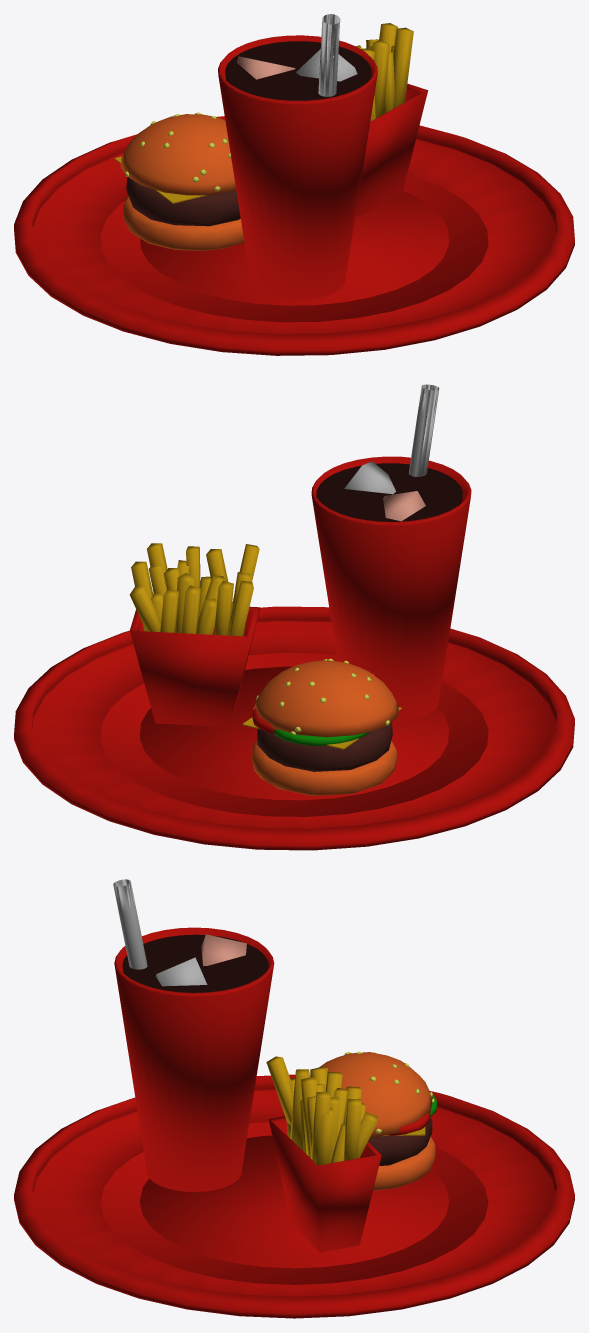
Rendered from burger.obj.
The picture shows the model from 3 angles, top to bottom: view 1: azimuth 30°, elevation 25°; view 2: azimuth 150°, elevation 25°; view 3: azimuth 270°, elevation 25°; orthographic projection.
Visible parts, largest first — view 1: Cylinder.005, Cylinder.004, Sphere_Sphere.001, Cube_Cube.001, Cylinder.007, Cylinder.001, Cube.019_Cube.020, Cylinder, Cylinder.006, Cube.001_Cube.023, Cube.002_Cube.024; view 2: Cylinder.005, Cylinder.004, Cube_Cube.001, Cube.019_Cube.020, Sphere_Sphere.001, Cylinder.007, Cylinder, Cylinder.001, Cylinder.006, Cube.001_Cube.023, Cube.002_Cube.024, Cylinder.003; view 3: Cylinder.005, Cylinder.004, Cube_Cube.001, Cube.019_Cube.020, Sphere_Sphere.001, Cylinder.007, Cylinder.006, Cylinder, Cylinder.001, Cube.002_Cube.024, Cube.001_Cube.023.
Part boxes in pixels (box(x1,y1,x2,y2)): Cylinder.005: box(14, 116, 574, 355); Cylinder.004: box(218, 35, 377, 300); Sphere_Sphere.001: box(120, 114, 236, 195); Cube_Cube.001: box(355, 83, 428, 217); Cylinder.007: box(225, 41, 371, 100); Cylinder.001: box(126, 177, 240, 226); Cube.019_Cube.020: box(356, 23, 413, 121); Cylinder: box(123, 195, 244, 250); Cylinder.006: box(318, 14, 340, 96); Cube.001_Cube.023: box(296, 49, 357, 81); Cube.002_Cube.024: box(237, 56, 295, 79); Cylinder.005: box(14, 606, 574, 850); Cylinder.004: box(311, 456, 471, 721); Cube_Cube.001: box(130, 606, 260, 727); Cube.019_Cube.020: box(129, 543, 259, 636); Sphere_Sphere.001: box(253, 660, 398, 737); Cylinder.007: box(316, 463, 462, 521); Cylinder: box(252, 740, 397, 795); Cylinder.001: box(257, 722, 392, 771); Cylinder.006: box(409, 384, 439, 476); Cube.001_Cube.023: box(344, 461, 395, 494); Cube.002_Cube.024: box(383, 491, 425, 521); Cylinder.003: box(274, 729, 369, 745); Cylinder.005: box(14, 1074, 574, 1318); Cylinder.004: box(114, 927, 274, 1191); Cube_Cube.001: box(268, 1116, 381, 1252); Cube.019_Cube.020: box(266, 1056, 377, 1165); Sphere_Sphere.001: box(310, 1052, 432, 1137); Cylinder.007: box(122, 934, 268, 992); Cylinder.006: box(113, 879, 147, 969); Cylinder: box(373, 1136, 435, 1190); Cylinder.001: box(368, 1118, 432, 1165); Cube.002_Cube.024: box(201, 934, 246, 965); Cube.001_Cube.023: box(155, 957, 207, 986).
Bounding box in the file's own units: 3.8 × 2.23 × 3.8.
